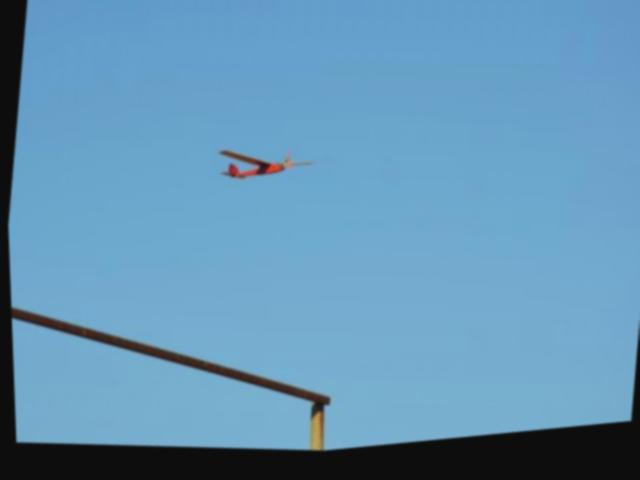iha: (218, 148, 313, 191)
